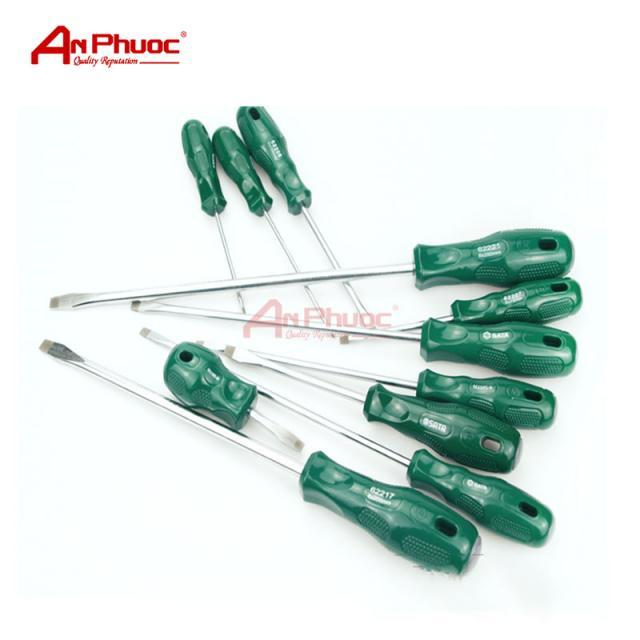screwdriver: (38, 336, 486, 578), (138, 324, 563, 546), (45, 227, 578, 315), (220, 342, 528, 476), (129, 298, 583, 378), (192, 336, 562, 434), (232, 108, 383, 334), (210, 123, 340, 341), (154, 340, 310, 455), (336, 277, 584, 345), (179, 118, 249, 322)
